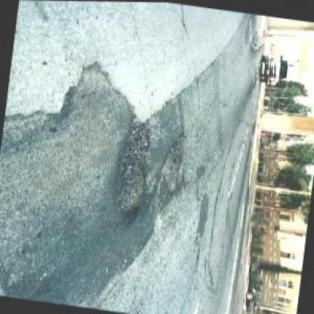Hueco: (110, 116, 157, 218), (158, 127, 189, 195)
